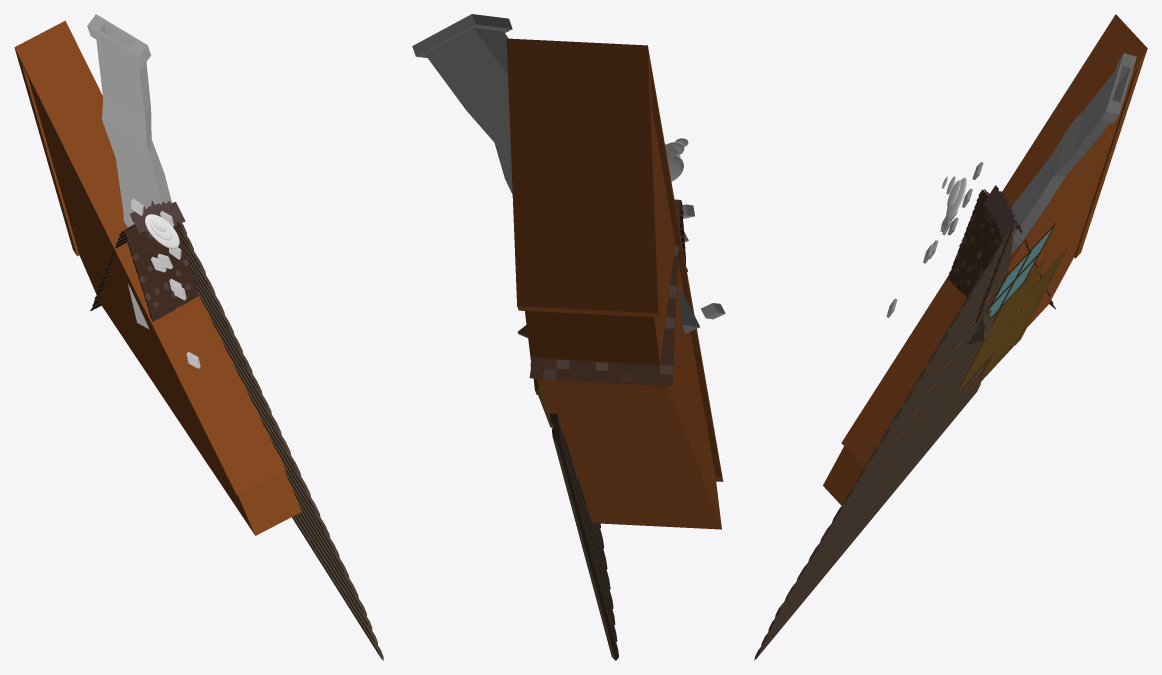
Rendered from saxli.glb.
The picture shows the model from 3 angles, left to right: view 1: azimuth 30°, elevation 25°; view 2: azimuth 150°, elevation 25°; view 3: azimuth 270°, elevation 25°; orthographic projection. The views are drawn at different scales.
Parts seen in each view (by area): view 1: Cube.1345, Cube.1346, Cube.1333, Cylinder.200, Cube.1340, Cube.1332, Cube.1339; view 2: Cube.1345, Cube.1346, Cube.1333, Cube.1340, Cylinder.200, Cube.1332; view 3: Cylinder.200, Cube.1345, Cube.1346, Cube.1333, Cube.1340, Cube.1331, Cube.1330, Cube.1344, Cube.1339, Cube.1332.
Part boxes in pixels (left/top/right/bottom): Cube.1345: left=14, top=20, right=285, bottom=494; Cube.1346: left=28, top=77, right=301, bottom=535; Cube.1333: left=87, top=14, right=171, bottom=328; Cylinder.200: left=177, top=221, right=383, bottom=660; Cube.1340: left=90, top=222, right=200, bottom=321; Cube.1332: left=131, top=198, right=200, bottom=368; Cube.1339: left=130, top=200, right=185, bottom=233; Cube.1345: left=506, top=38, right=723, bottom=481; Cube.1346: left=525, top=110, right=721, bottom=529; Cube.1333: left=412, top=14, right=699, bottom=333; Cube.1340: left=529, top=199, right=687, bottom=386; Cylinder.200: left=550, top=413, right=618, bottom=660; Cube.1332: left=665, top=144, right=725, bottom=319; Cylinder.200: left=754, top=223, right=1016, bottom=660; Cube.1345: left=841, top=14, right=1147, bottom=467; Cube.1346: left=823, top=71, right=1134, bottom=505; Cube.1333: left=1010, top=53, right=1136, bottom=255; Cube.1340: left=948, top=189, right=1055, bottom=322; Cube.1331: left=957, top=258, right=1046, bottom=391; Cube.1330: left=974, top=248, right=1067, bottom=388; Cube.1344: left=978, top=223, right=1055, bottom=328; Cube.1339: left=983, top=185, right=1015, bottom=240; Cube.1332: left=886, top=162, right=983, bottom=317.
Bounding box in the file's own units: 7.26 × 19.07 × 12.3.
